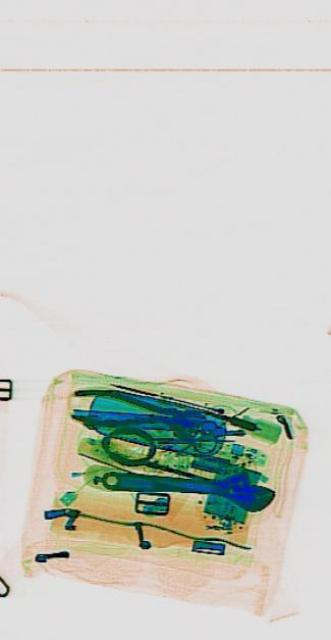Pliers: (69, 384, 204, 434)
Wrench: (100, 458, 273, 510)
